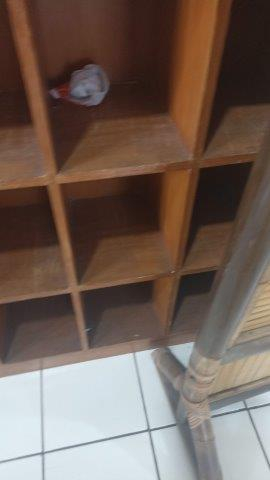plastik: (47, 63, 111, 107)
